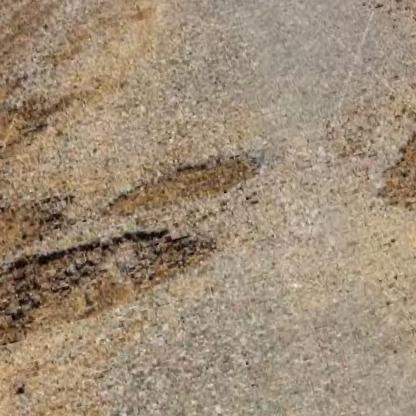pothole: (0, 205, 227, 360), (98, 142, 268, 225), (351, 59, 416, 256)
